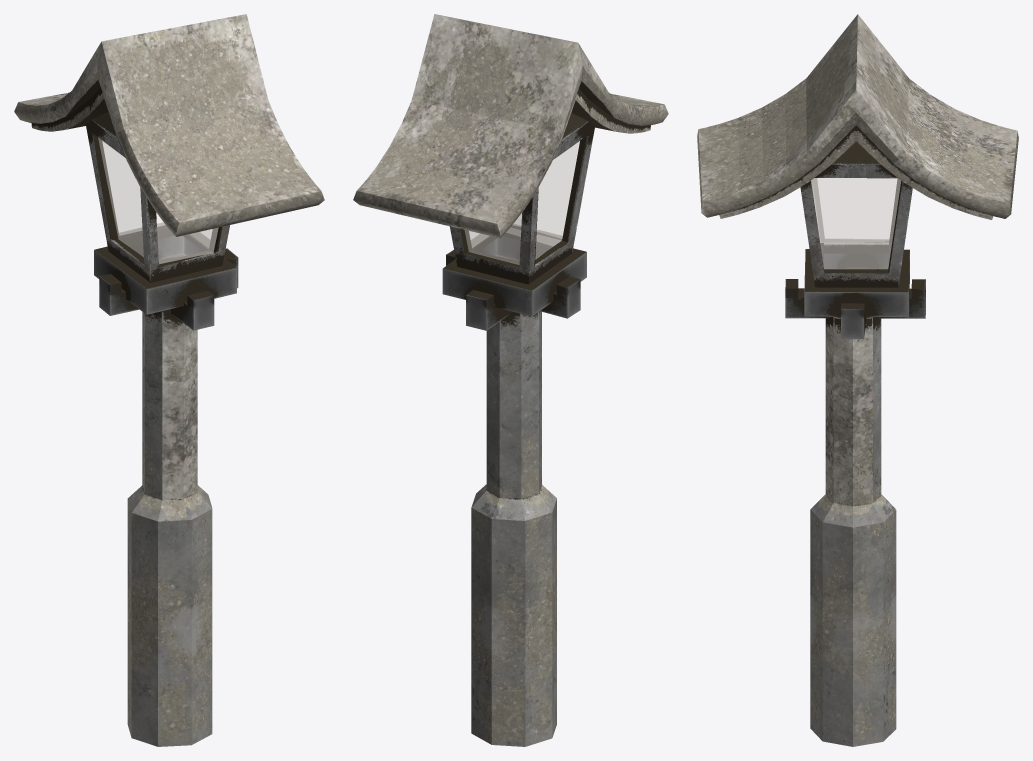
File: toroStone.glb
3 views of the same model, side by side, from view 1: azimuth 30°, elevation 25°; view 2: azimuth 150°, elevation 25°; view 3: azimuth 270°, elevation 25° (orthographic). The views are drawn at different scales.
Size of the model in its own units: 0.1144 by 0.4967 by 0.2119.
Materials: 2 (1 with a texture image).
